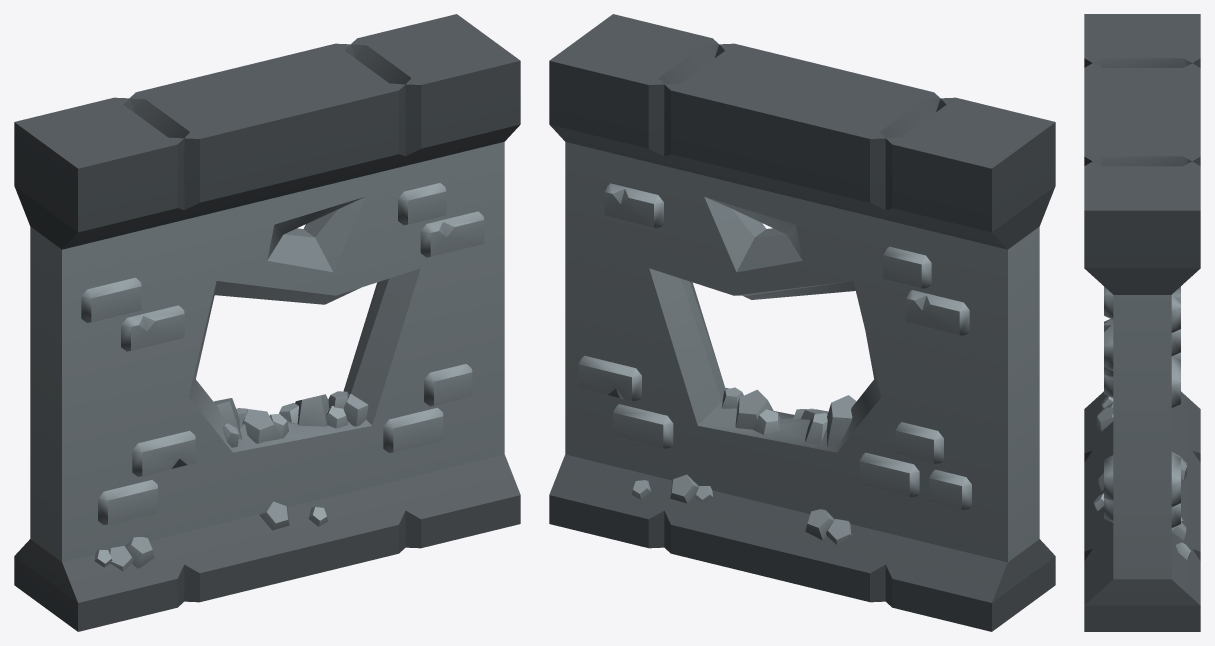
Rendered from wall_broken.glb.
3 views of the same model, side by side, from view 1: azimuth 30°, elevation 25°; view 2: azimuth 150°, elevation 25°; view 3: azimuth 270°, elevation 25° (orthographic). The views are drawn at different scales.
Bounding box in the file's own units: 4 × 4 × 1.
1 material, 1 textured.
